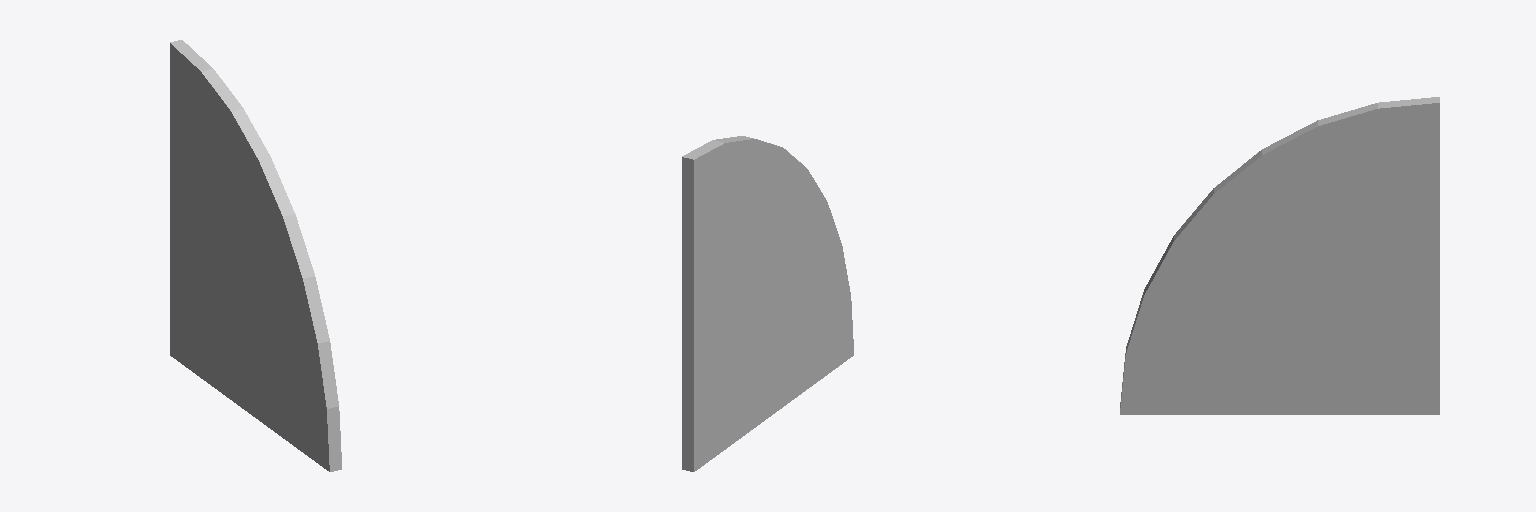
File: icosphere_solid_door_right.obj
3 views of the same model, side by side, from view 1: azimuth 30°, elevation 25°; view 2: azimuth 150°, elevation 25°; view 3: azimuth 270°, elevation 25° (orthographic).
Visible parts, largest first — view 1: Door_Right_Inner; view 2: Door_Right_Inner; view 3: Door_Right_Inner.
Boxes of the visible parts, x1,y1,x2,y2 form: Door_Right_Inner: [170, 40, 341, 471]; Door_Right_Inner: [682, 136, 853, 471]; Door_Right_Inner: [1120, 97, 1439, 414].
Size of the model in its own units: 0.2035 by 4.88 by 4.53.